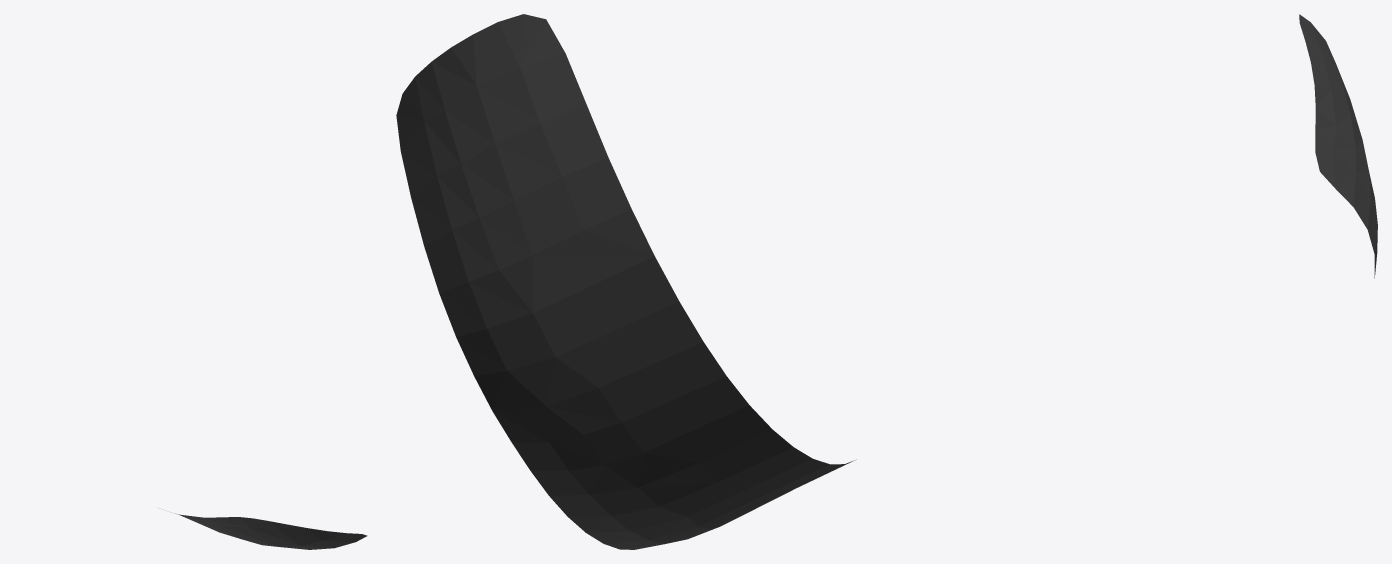
File: Humerus_capitulum.glb
3 renders of one model, left to right at view 1: azimuth 30°, elevation 25°; view 2: azimuth 150°, elevation 25°; view 3: azimuth 270°, elevation 25°, orthographic. The views are drawn at different scales.
Visible parts, largest first — view 1: Humerus_capitulum; view 2: Humerus_capitulum; view 3: Humerus_capitulum.
Boxes of the visible parts, x1,y1,x2,y2 form: Humerus_capitulum: [175, 513, 367, 549]; Humerus_capitulum: [396, 14, 856, 549]; Humerus_capitulum: [1299, 14, 1377, 278].
Size of the model in its own units: 0.1269 by 0.2233 by 0.1808.
1 material, 1 textured.
